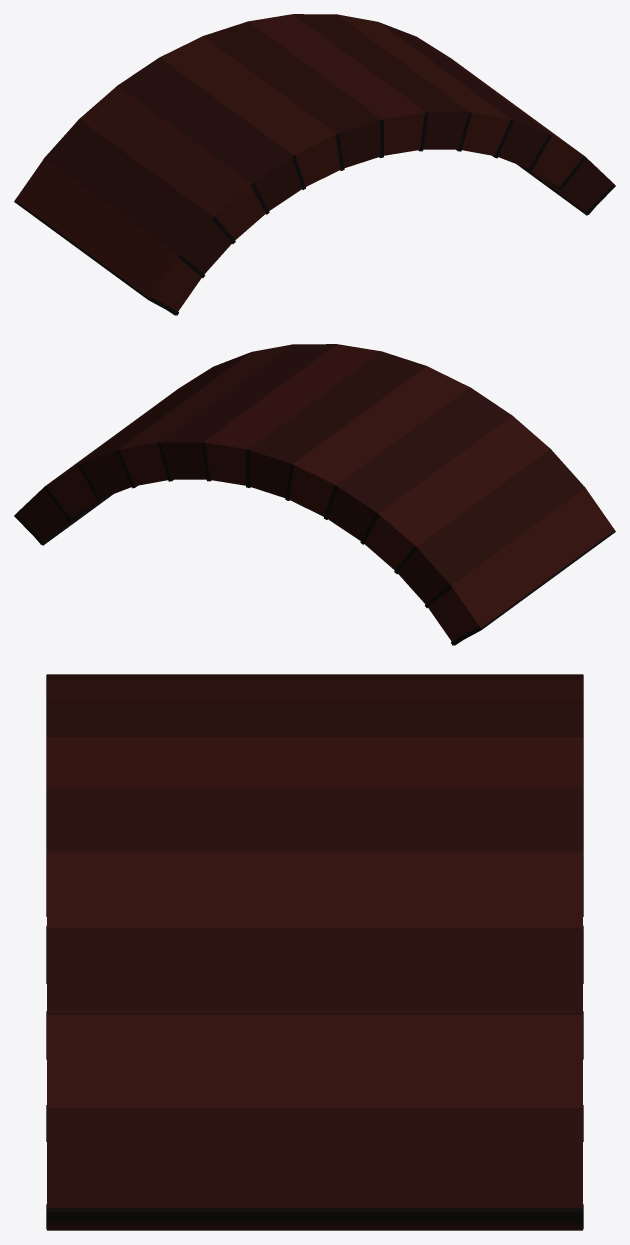
Rendered from SM_Hide_Vault_4x2.glb.
3 renders of one model, top to bottom at view 1: azimuth 30°, elevation 25°; view 2: azimuth 150°, elevation 25°; view 3: azimuth 270°, elevation 25°, orthographic. The views are drawn at different scales.
Visible parts, largest first — view 1: SM_Hide_Vault_4x2-col; view 2: SM_Hide_Vault_4x2-col; view 3: SM_Hide_Vault_4x2-col.
Boxes of the visible parts, left/top/right/bottom form: SM_Hide_Vault_4x2-col: left=14, top=14, right=615, bottom=315; SM_Hide_Vault_4x2-col: left=14, top=344, right=615, bottom=645; SM_Hide_Vault_4x2-col: left=46, top=674, right=583, bottom=1230.
Size of the model in its own units: 4.03 by 1.2 by 2.
